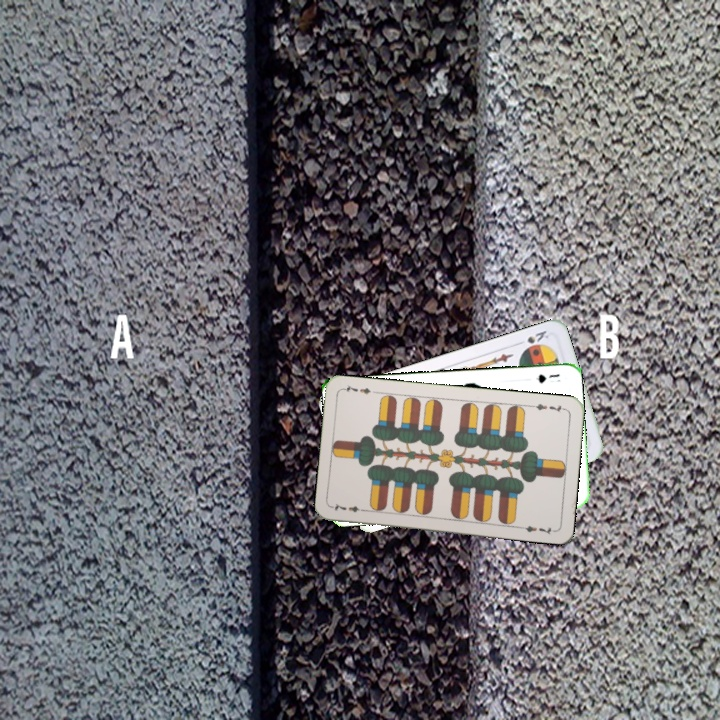E7: (329, 499, 370, 515), (528, 400, 568, 416)
GU: (532, 370, 563, 386)
SK: (512, 326, 551, 348)
